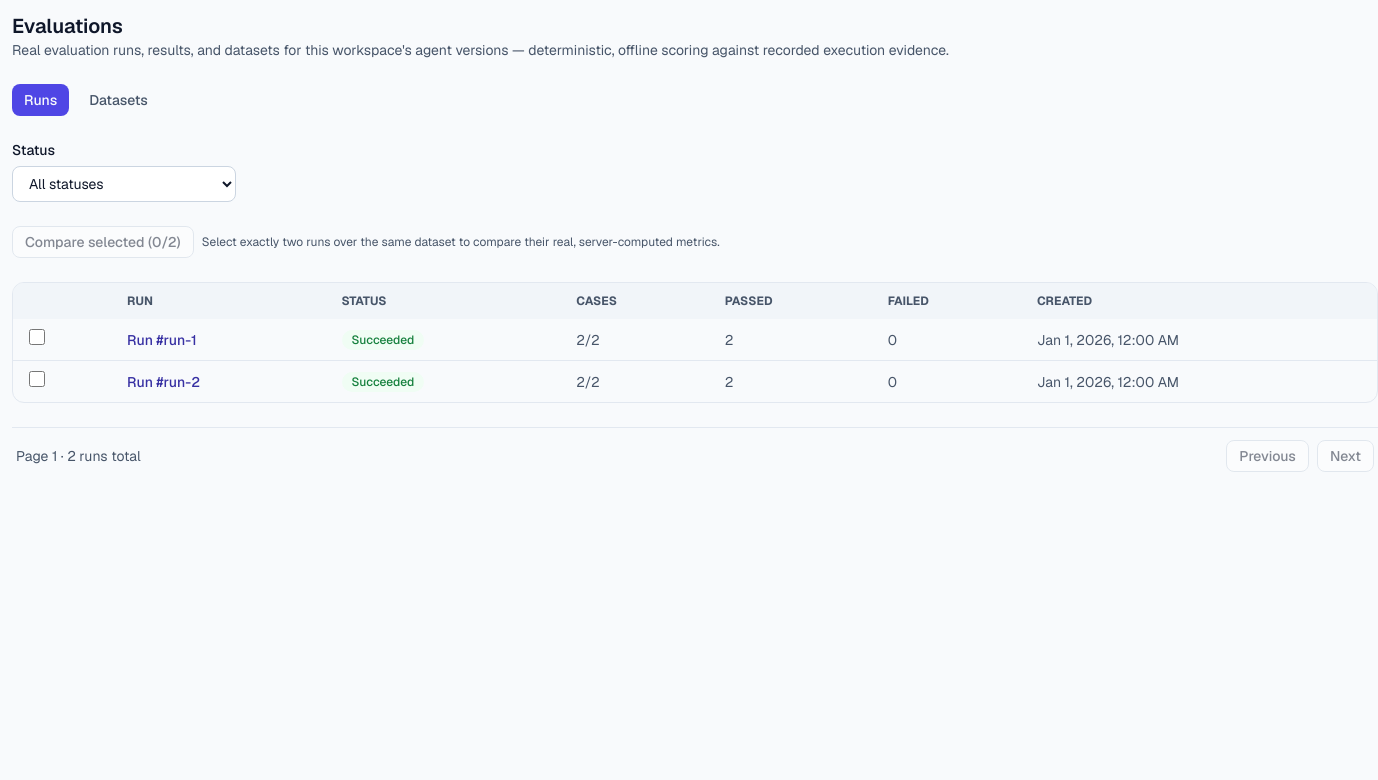
Test: Compare Runs (Phase 23 Chunk 3) › shows the real 400 rejection for incompatible runs, never a fabricated comparison
Expected: the button "Compare selected (0/2)" is shown, [12,226,194,258]
Click the checkbox named "Select run run-1 for comparison": (37, 337) [29,329,45,345]
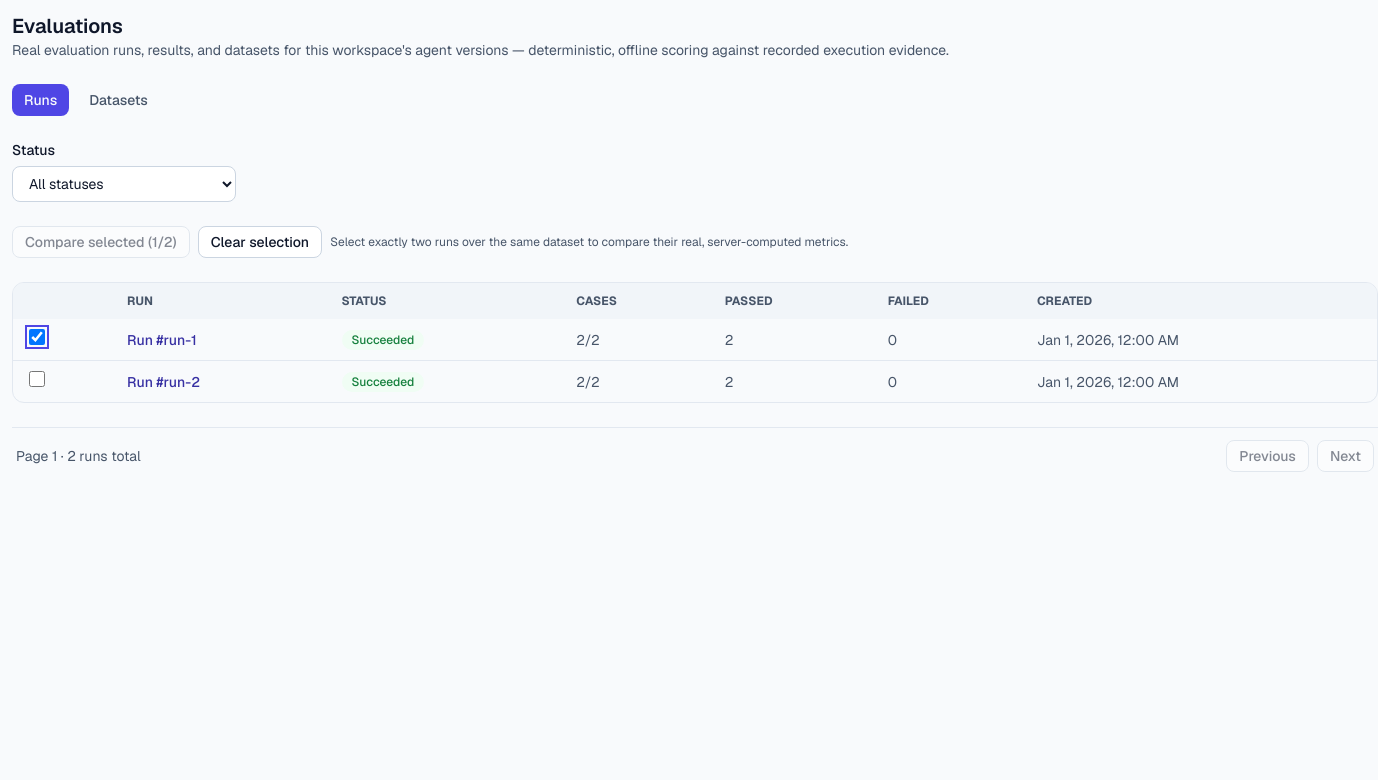
Click the checkbox named "Select run run-2 for comparison": (37, 379) [29,371,45,387]
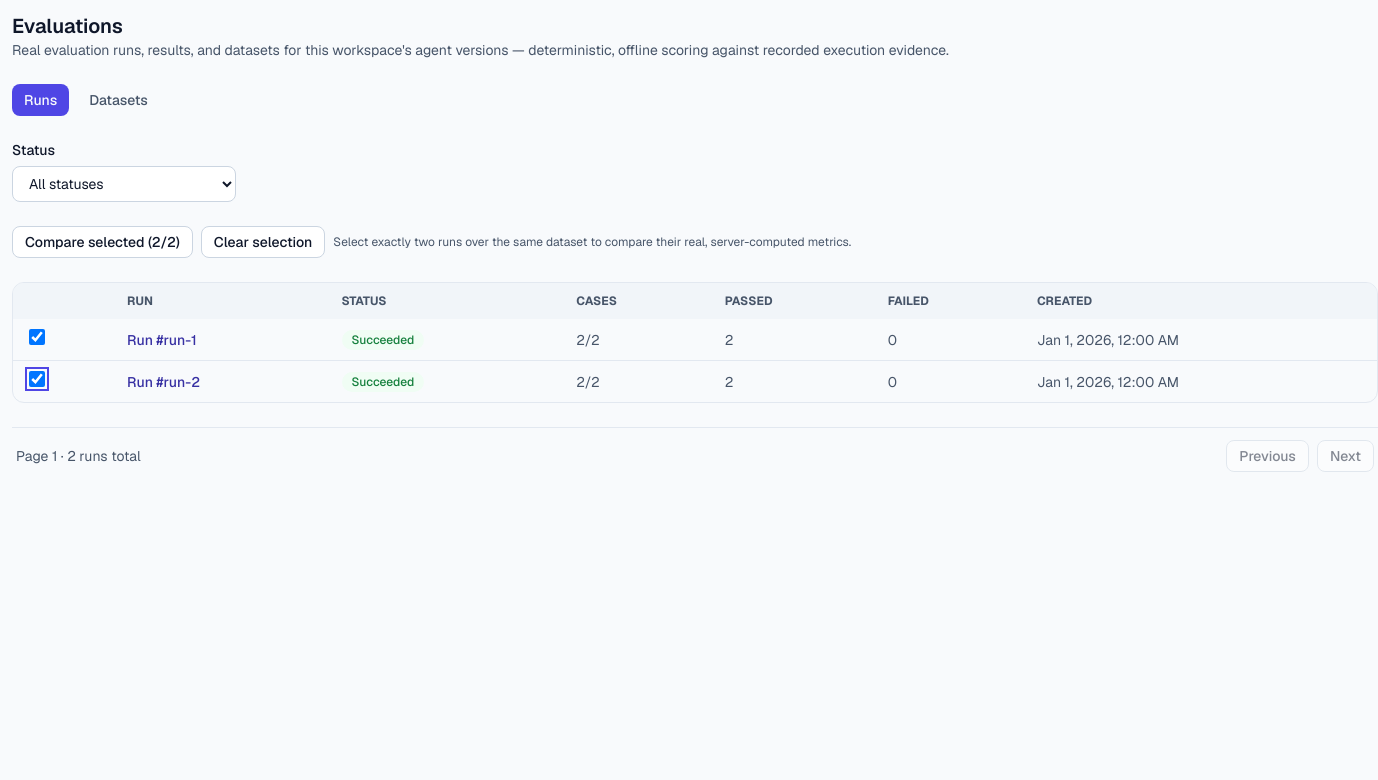
Click the button "Compare selected (2/2)": (102, 242) [12,226,193,258]
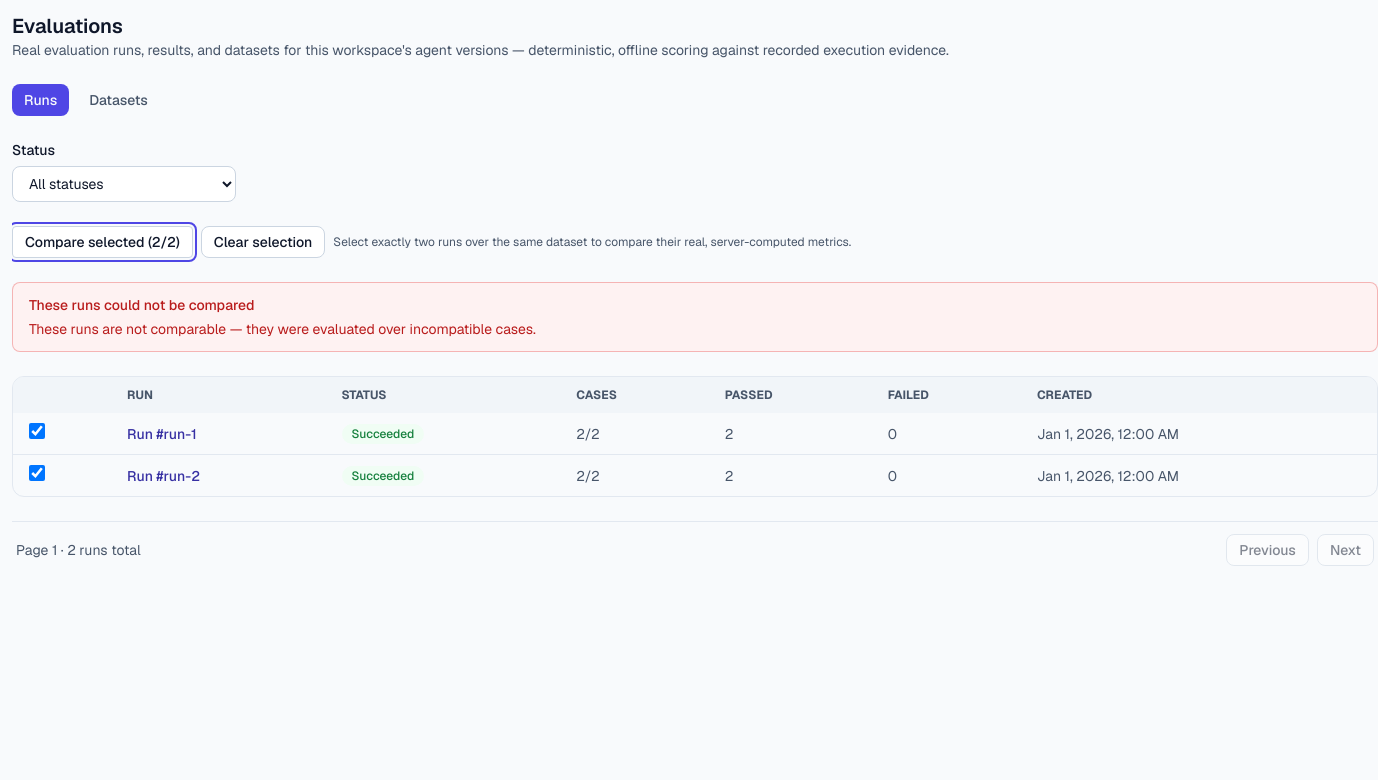
Expected: the text "These runs are not comparable — they were evaluated over incompatible cases." is shown, [29,320,536,338]
